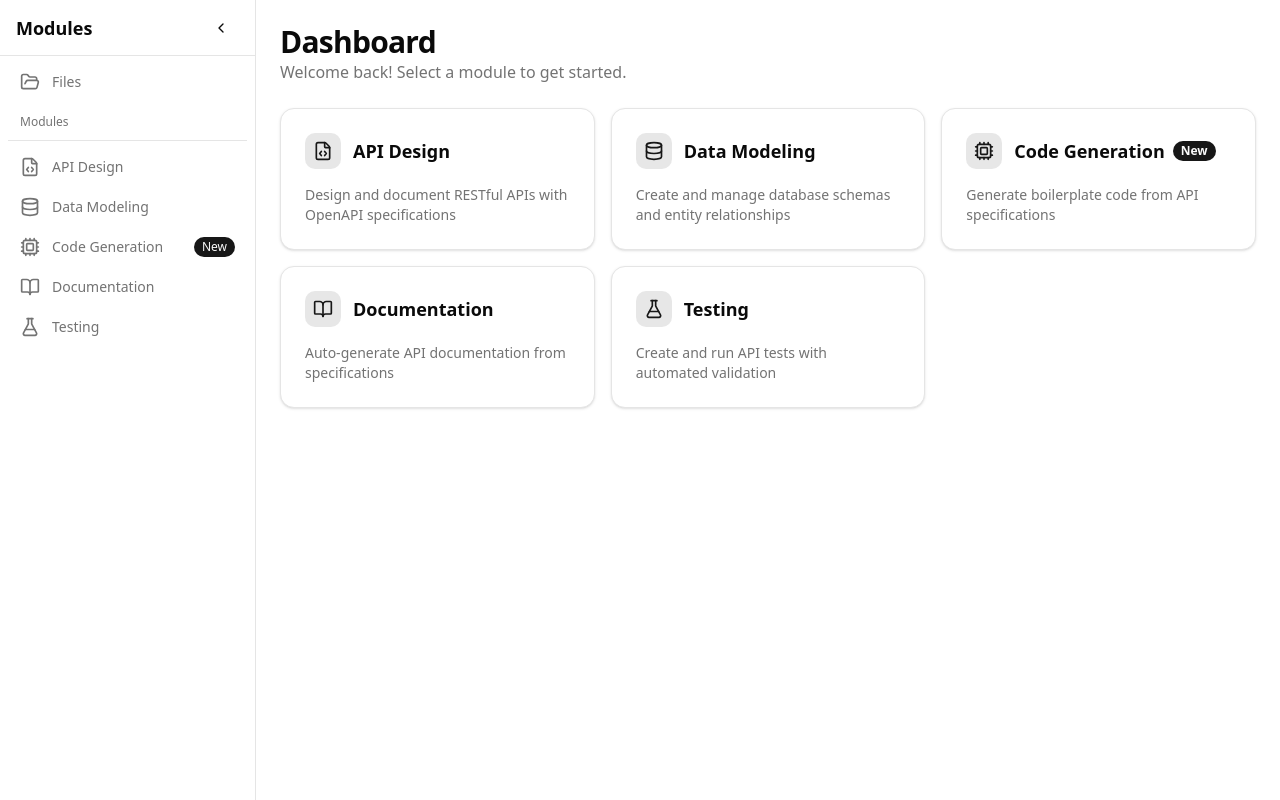
Test: Dashboard › module navigation › should navigate to module route when clicked
# Click the sidebar link (first link with this href)
Click the link to "/app/api-design" at [72, 167], box [20, 157, 124, 177]
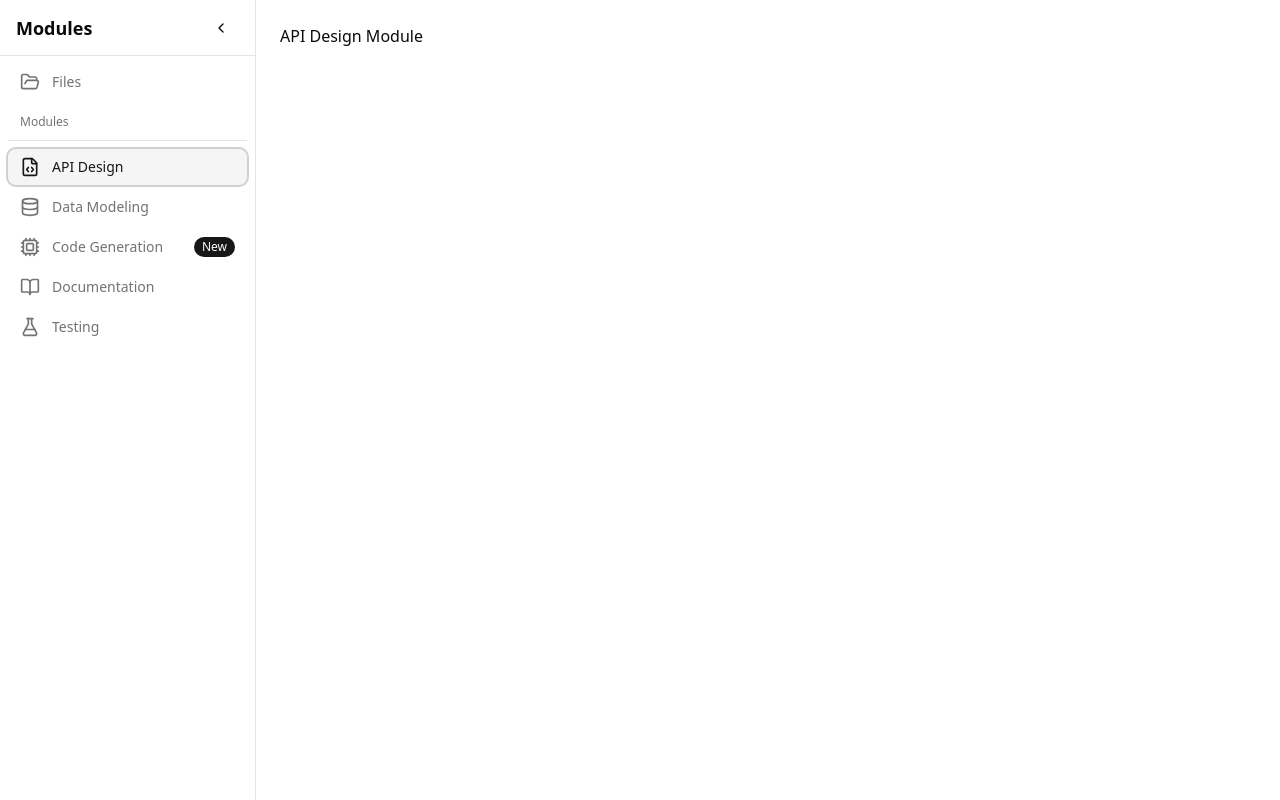
Result: the text "API Design Module" is shown at [280, 25, 423, 47]
